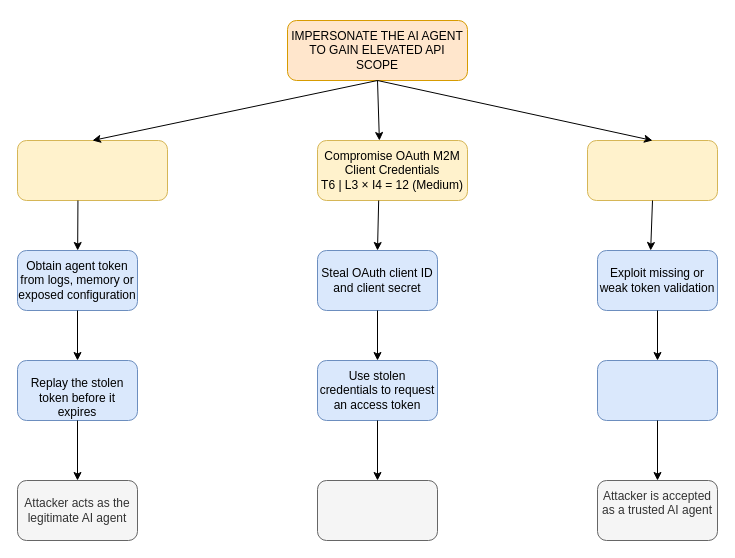
Some shapes in this 735 by 558 pixel diagram are drawn without their labels. The shapes that lost their labels are listed below. From the top down, each one's centre as x and y in pixels, then its label:
[92,170]: Steal or Replay Agent Access Token T7 | L3 × I4 = 12 (Medium)
[652,170]: Exploit Weak Identity Validation T3 | L3 × I5 = 15 (High)
[657,390]: Bypass issuer, audience or signature checks
[377,510]: Attacker obtains a valid service access token
